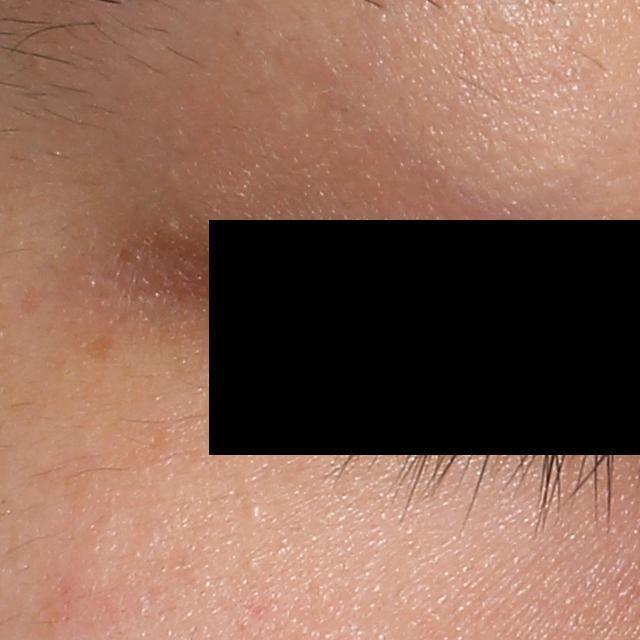comedo: (241, 498, 266, 525)
melasma: (81, 332, 114, 369)
